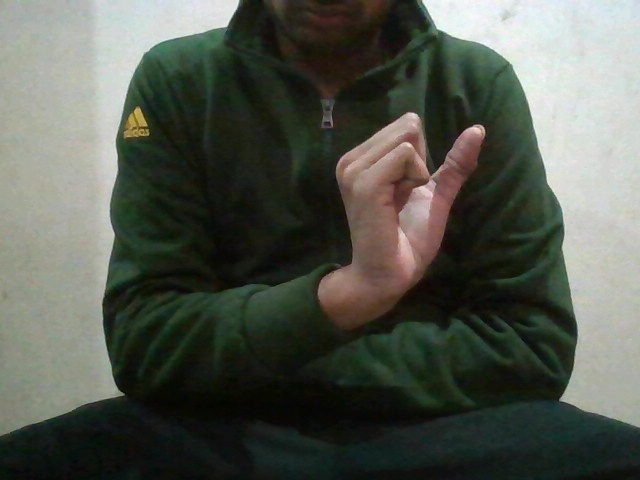S: (330, 103, 488, 306)
